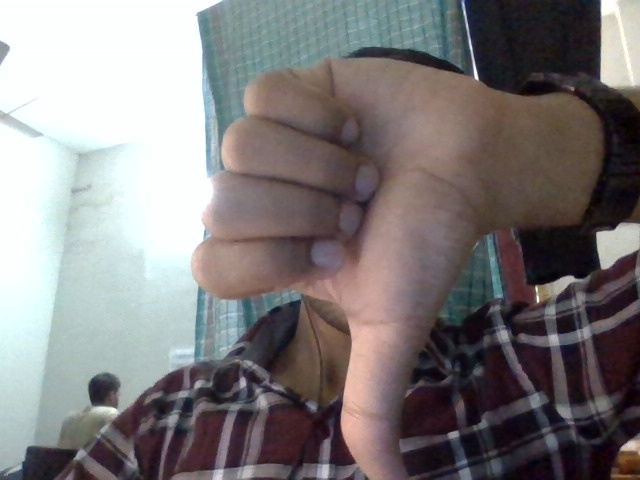ThumbDown: (181, 47, 550, 480)
